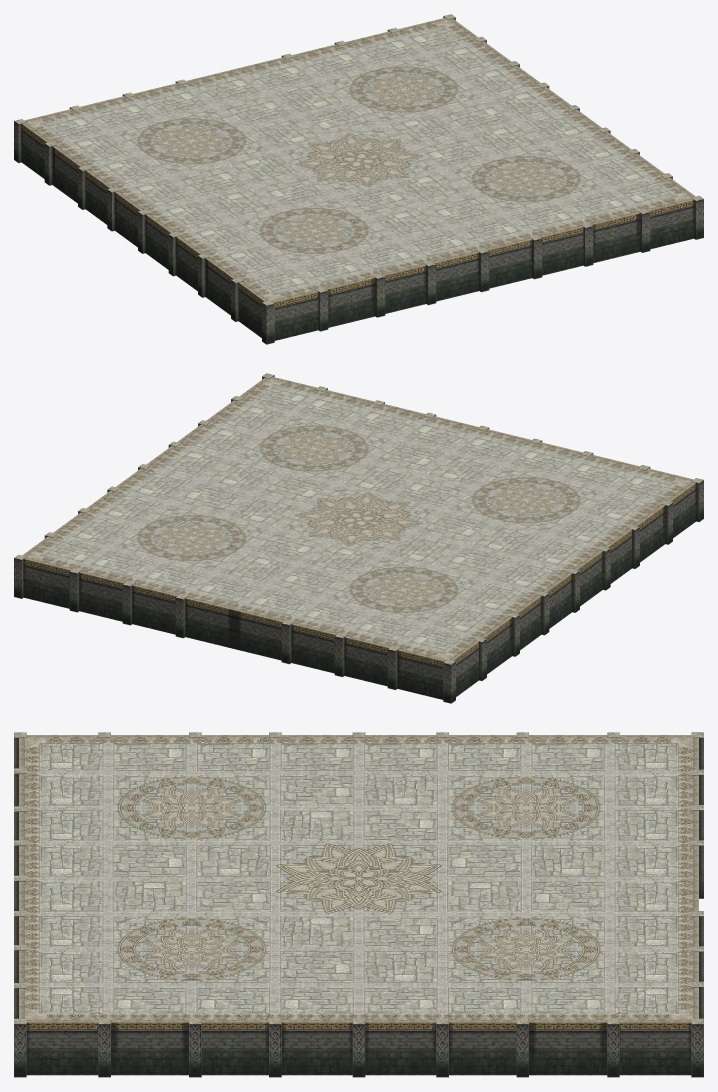
The model's file is otherworld_floor_02.fbx.
3 renders of one model, top to bottom at view 1: azimuth 30°, elevation 25°; view 2: azimuth 150°, elevation 25°; view 3: azimuth 270°, elevation 25°, orthographic. The views are drawn at different scales.
Parts seen in each view (by area): view 1: otherworld_floor_02; view 2: otherworld_floor_02; view 3: otherworld_floor_02.
Part boxes in pixels (left/top/right/bottom): otherworld_floor_02: left=14, top=14, right=703, bottom=344; otherworld_floor_02: left=14, top=373, right=703, bottom=703; otherworld_floor_02: left=14, top=732, right=703, bottom=1077.
Size of the model in its own units: 82.5 by 7.05 by 82.5.
